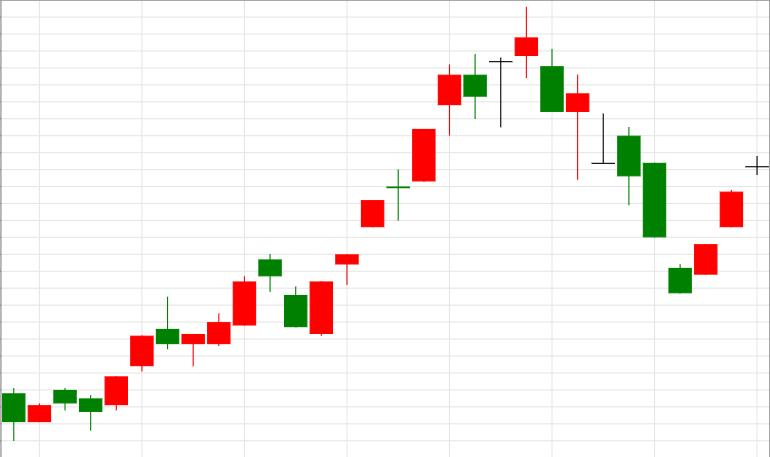evening_star_fall: (105, 253, 307, 410)
